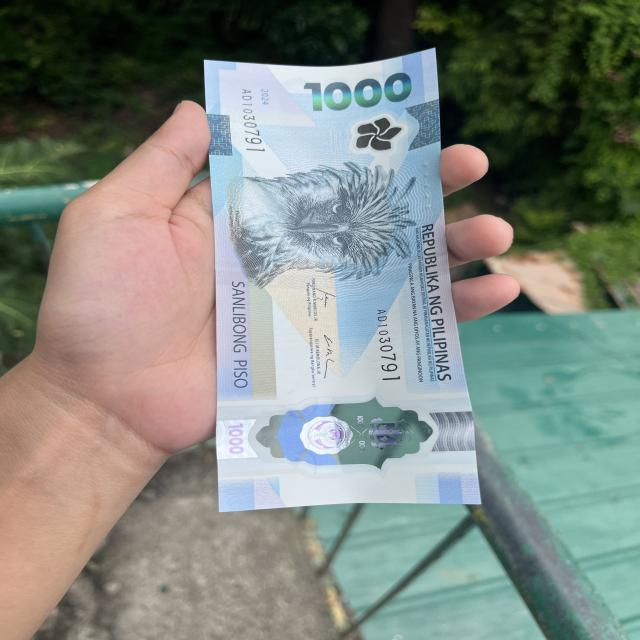clear_window: (216, 390, 475, 480)
eagle: (226, 161, 405, 280)
sampaguita: (323, 114, 412, 161)
serial_number: (230, 86, 272, 156)
